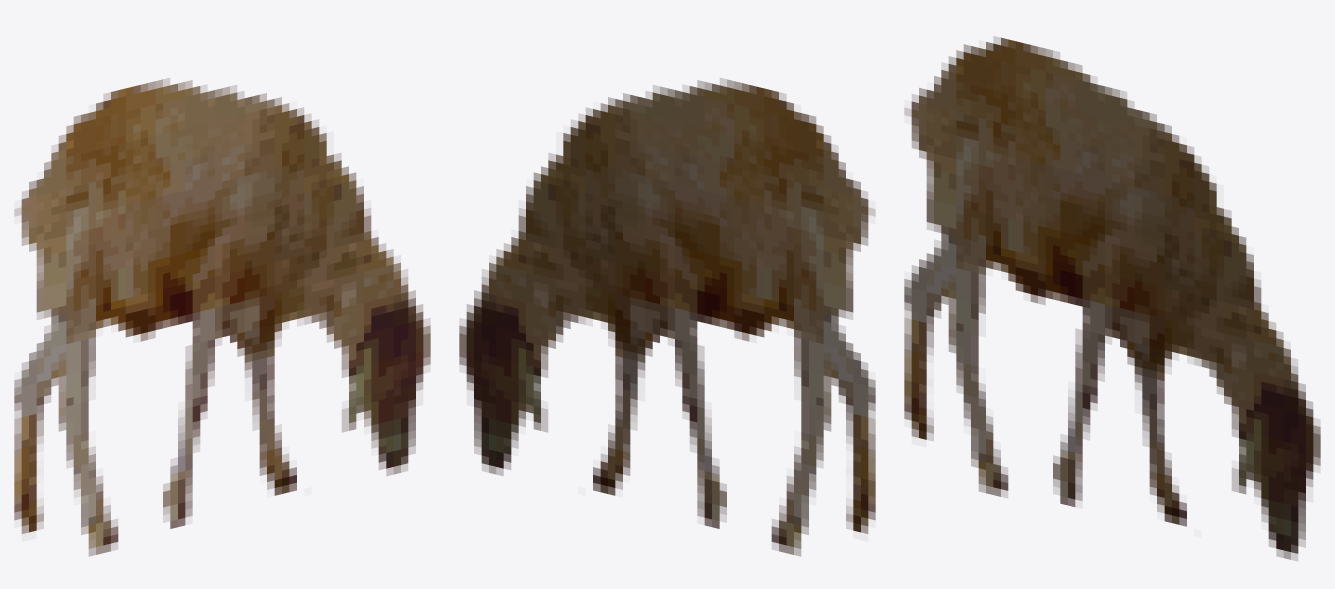
Rendered from ani_shp3.glb.
3 renders of one model, left to right at view 1: azimuth 30°, elevation 25°; view 2: azimuth 150°, elevation 25°; view 3: azimuth 330°, elevation 25°, orthographic.
Parts seen in each view (by area): view 1: ani_shp3; view 2: ani_shp3; view 3: ani_shp3.
Boxes of the visible parts, left/top/right/bottom form: ani_shp3: left=14, top=78, right=430, bottom=556; ani_shp3: left=459, top=78, right=875, bottom=556; ani_shp3: left=904, top=36, right=1320, bottom=560.
Bounding box in the file's own units: 0.7783 × 0.82 × 0.
Materials: 1 (1 with a texture image).
